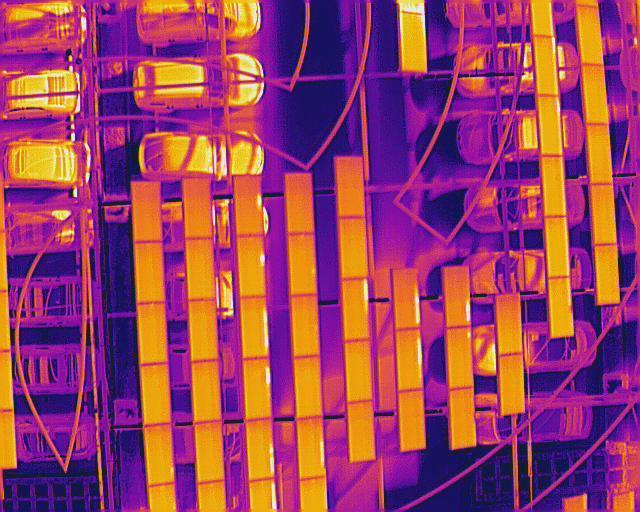Cell: (233, 175, 264, 236), (236, 237, 265, 298), (446, 327, 471, 390)
No-Anomaly: (130, 181, 161, 242), (185, 239, 215, 300), (135, 241, 164, 304), (183, 176, 212, 238), (141, 365, 170, 426), (137, 302, 166, 363), (291, 295, 319, 358), (338, 217, 366, 280), (285, 172, 313, 234), (294, 357, 322, 419), (192, 361, 220, 422), (288, 233, 315, 295), (145, 424, 172, 486), (190, 301, 217, 363), (336, 156, 363, 217), (195, 422, 222, 483), (577, 5, 604, 64), (590, 183, 616, 244), (348, 401, 374, 462), (346, 340, 371, 402), (582, 66, 608, 125), (496, 294, 521, 355), (400, 390, 425, 451), (586, 124, 611, 183), (499, 355, 524, 414), (594, 245, 619, 303), (549, 278, 572, 338), (450, 390, 474, 447), (546, 218, 568, 280), (543, 156, 564, 218)
Unclassified: (246, 419, 274, 480), (341, 280, 368, 342), (240, 297, 267, 359), (243, 360, 270, 422), (297, 419, 324, 480), (392, 269, 419, 329), (396, 330, 422, 391), (532, 36, 558, 96), (444, 267, 469, 328), (400, 14, 426, 72), (536, 98, 561, 155)
